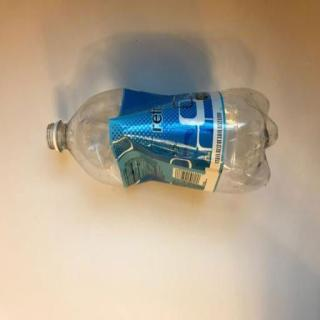Plastic-bottle: (46, 85, 282, 199)
